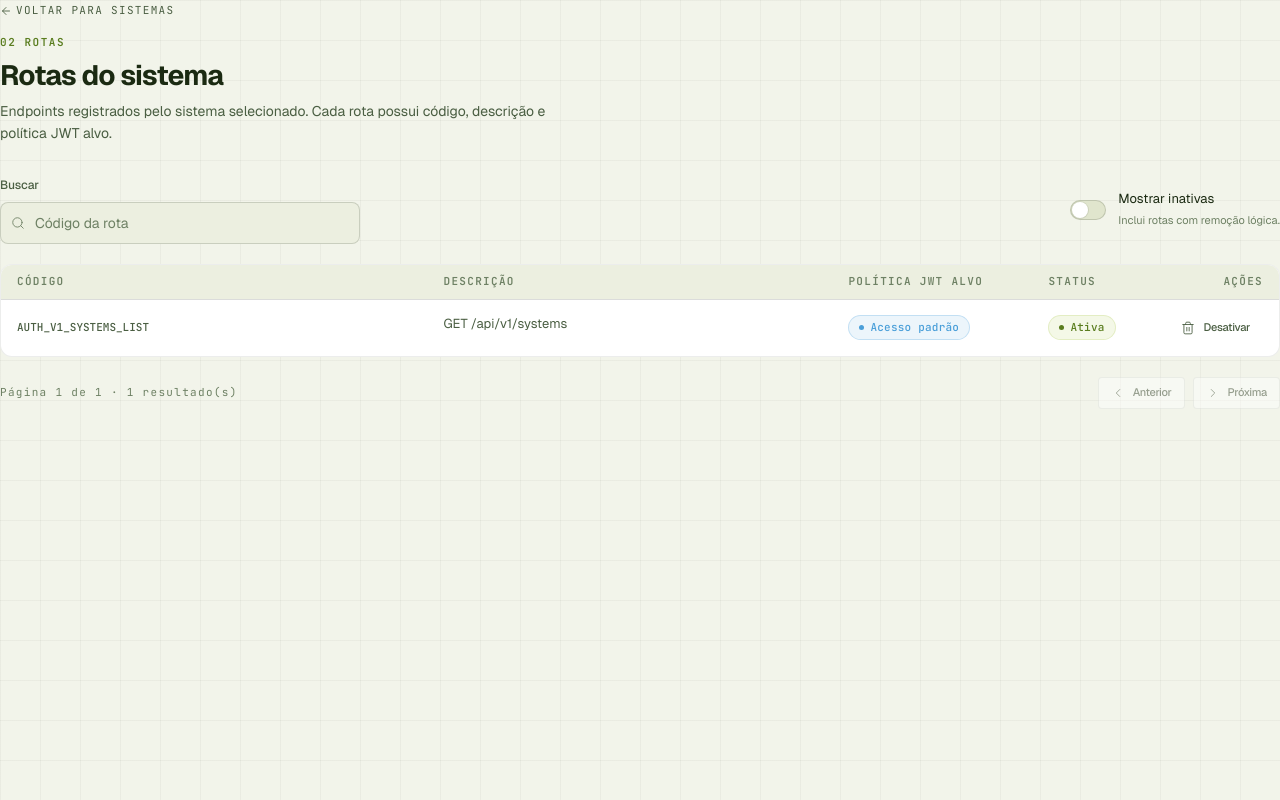
Scenario: RoutesPage — desativar (Issue #65) › confirmação bem-sucedida › envia DELETE /systems/routes/{id} com id correto, fecha modal, exibe toast verde e refaz listRoutes
Click the button "Desativar".
click(1216, 328)  # box left=1168, top=312, right=1263, bottom=344
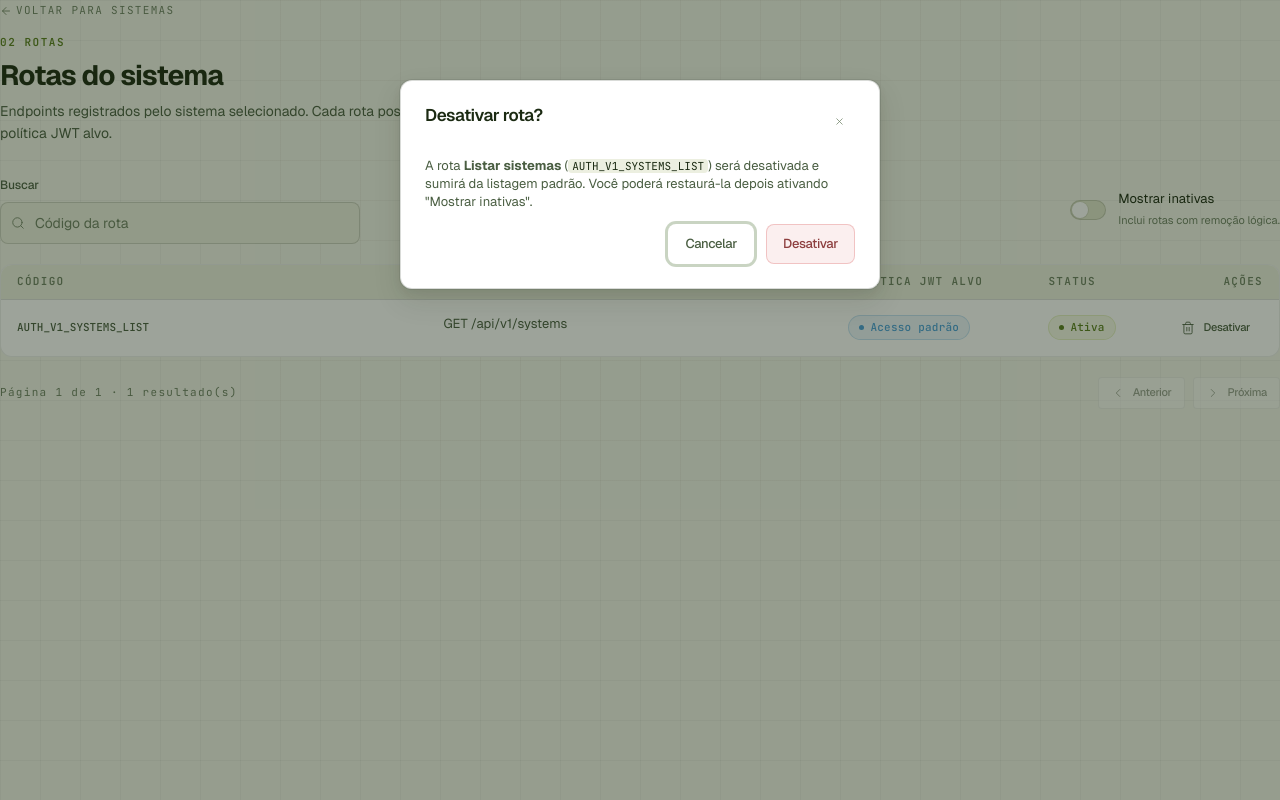
Click the button with test id "delete-route-confirm".
click(810, 244)  # box left=766, top=224, right=855, bottom=264
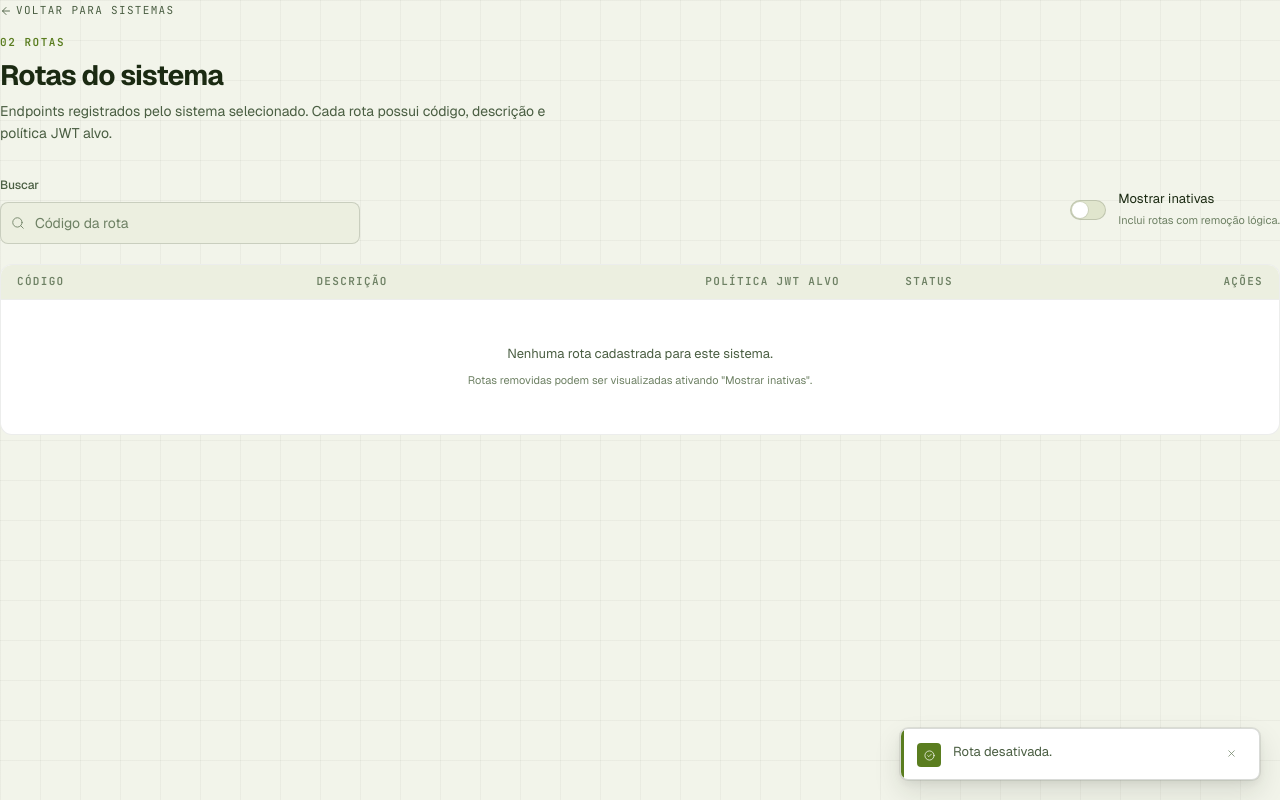
Expected: the dialog is gone
Expected: the text "Rota desativada." is shown, left=953, top=743, right=1052, bottom=760
